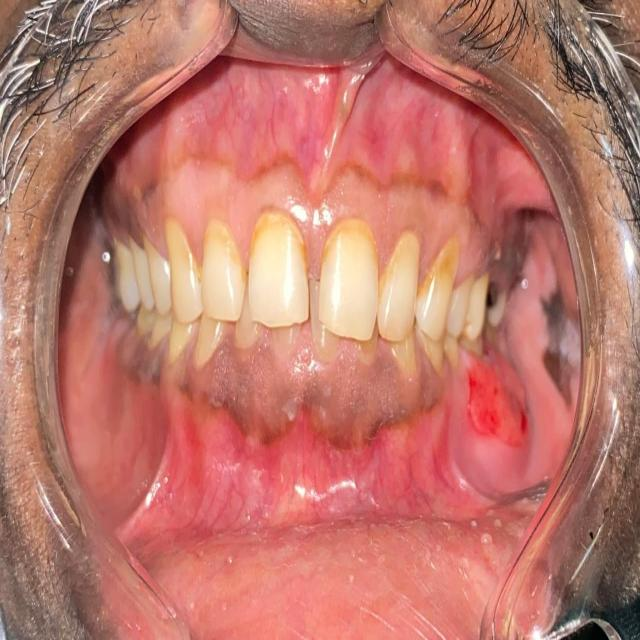cancer-detection: (445, 324, 540, 499)
processing_area: (60, 195, 578, 639), (97, 58, 568, 323)
